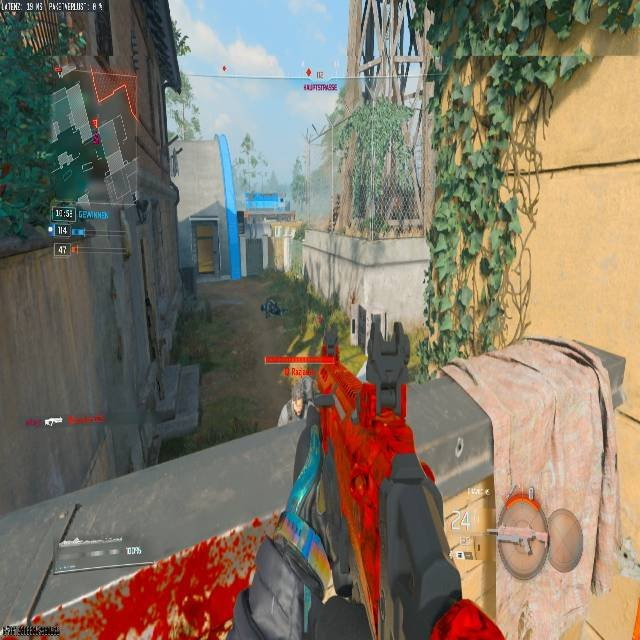player: (292, 376, 311, 417)
